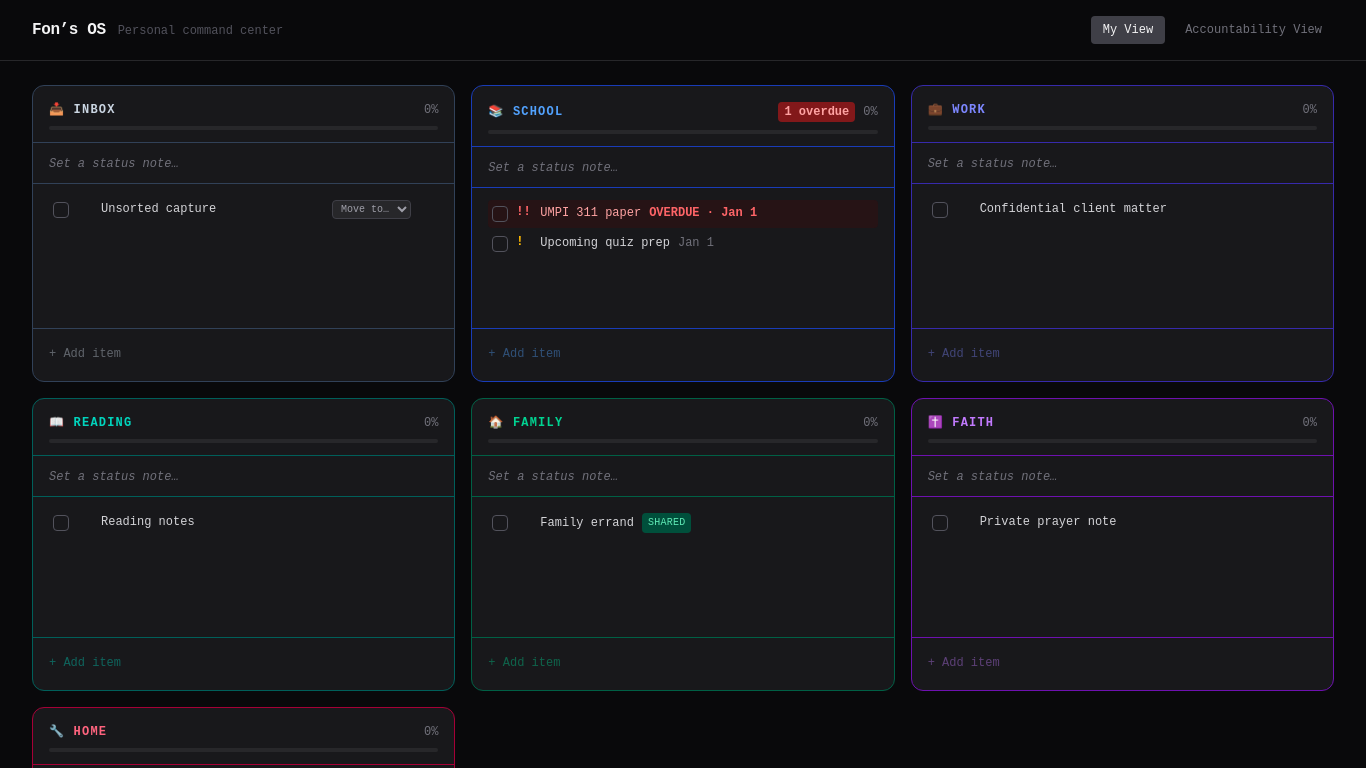
Accountability View › exposes no area other than School
Click the button "Accountability View" at (1254, 30), box [1173,16,1334,44]
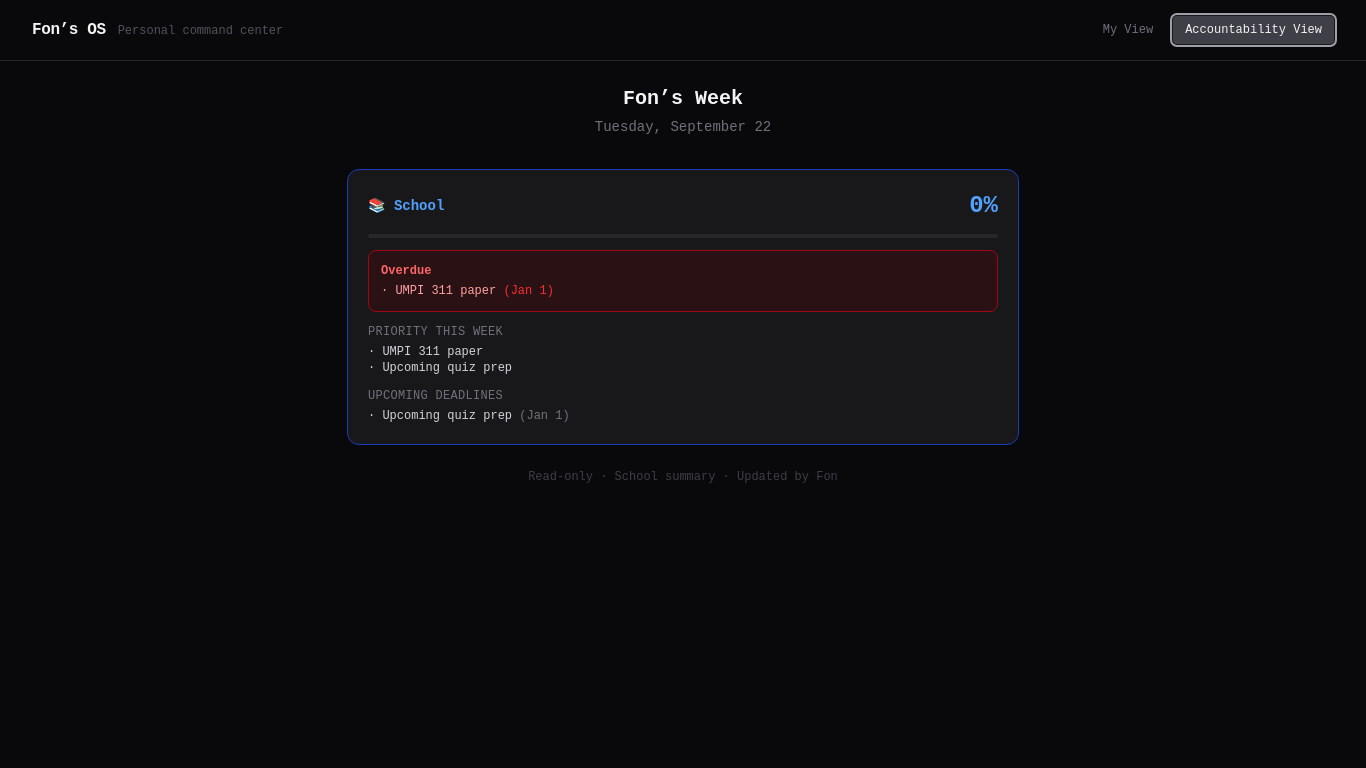
Check: the button "Confidential client matter" is gone
Check: the button "Family errand" is gone
Check: the button "Private prayer note" is gone
